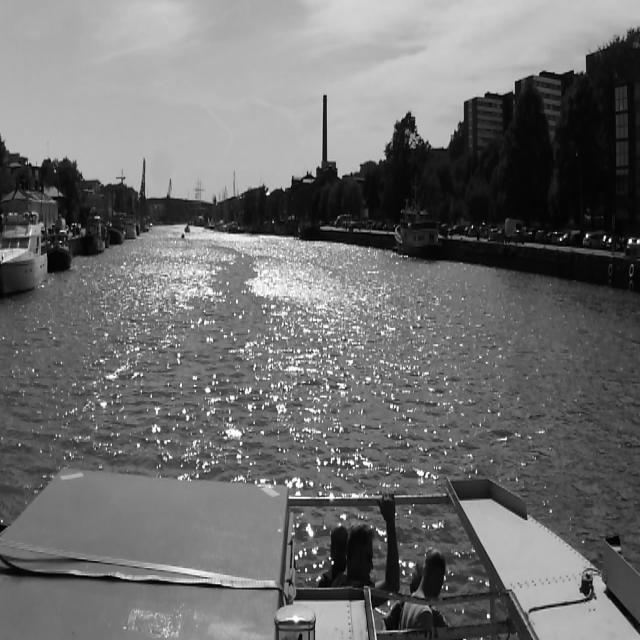ship: (0, 210, 48, 298), (394, 208, 440, 261), (48, 224, 72, 271), (81, 215, 105, 254), (106, 218, 126, 244), (184, 225, 190, 233), (181, 233, 185, 239)
